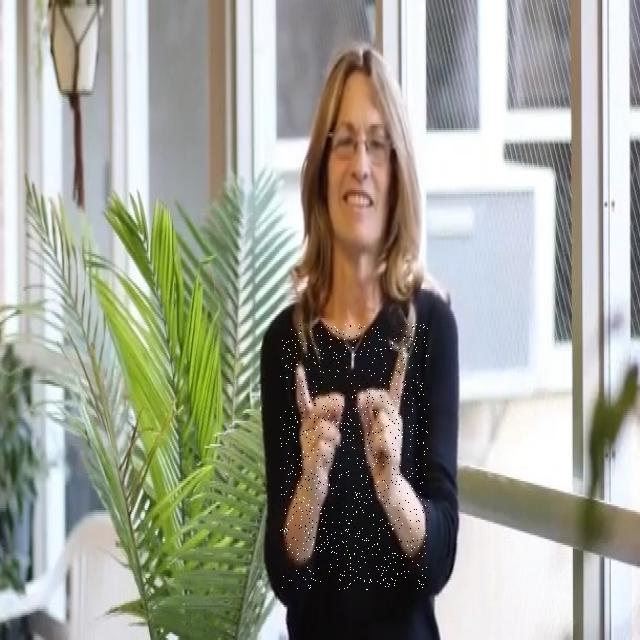sweet: (280, 324, 429, 590)
